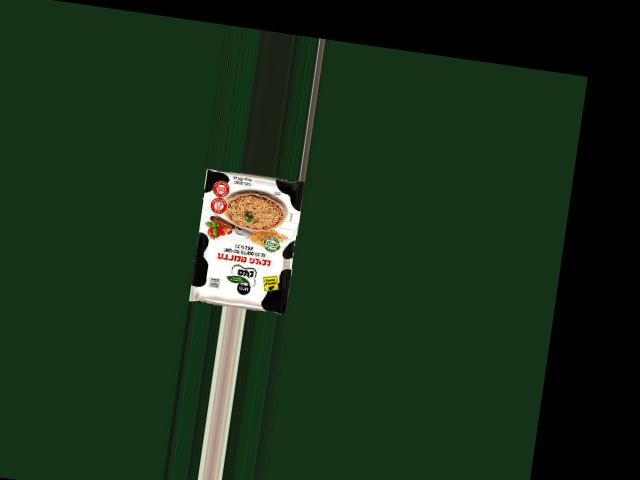cheese: (173, 171, 306, 305)
